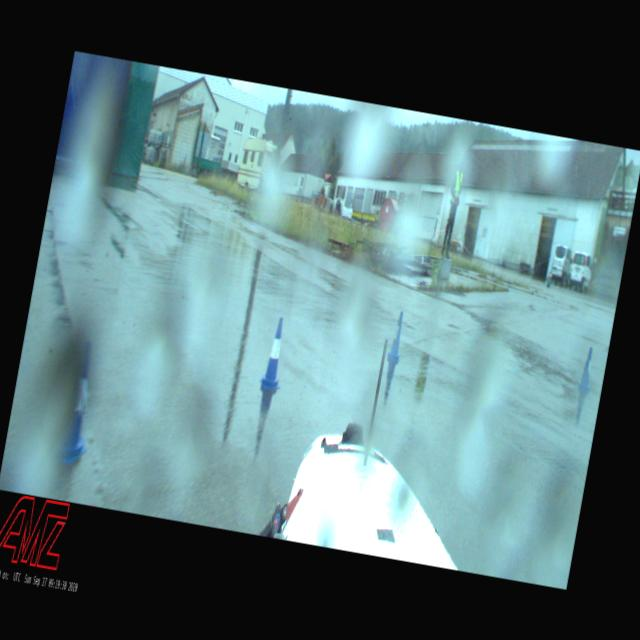blue_cone: (52, 338, 106, 468), (257, 316, 292, 392), (387, 310, 406, 360), (578, 346, 596, 389)
